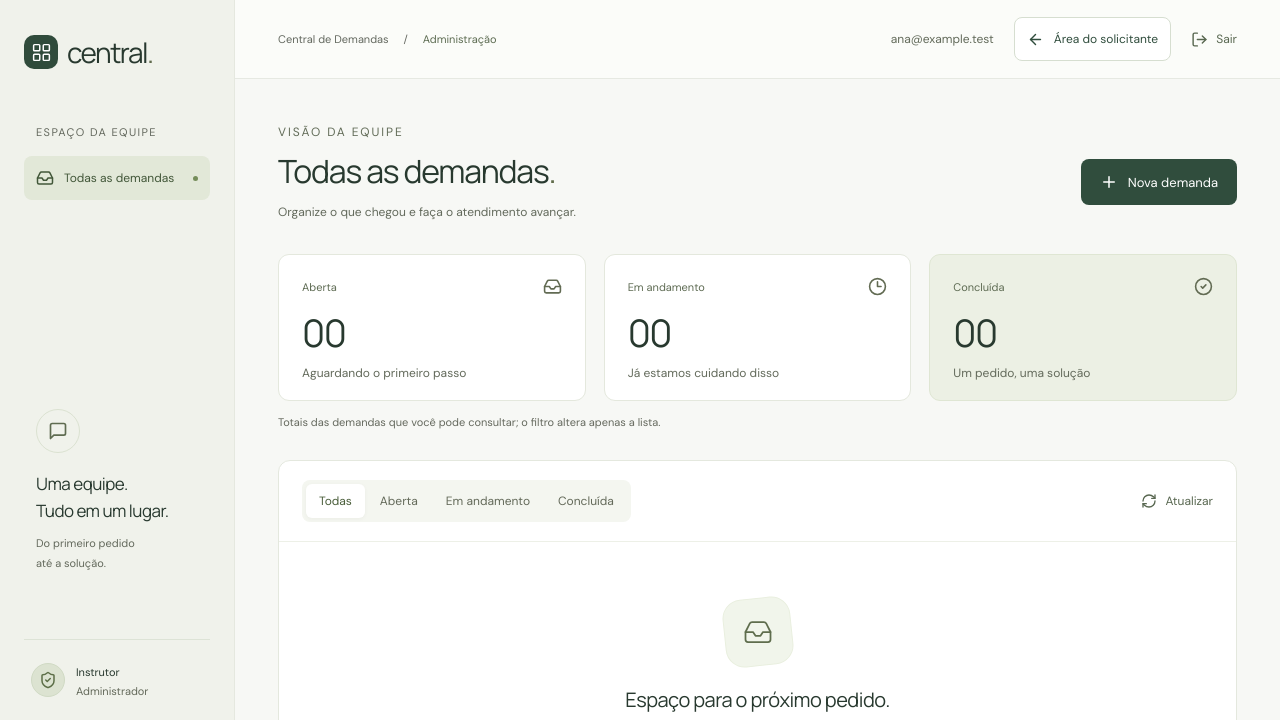
Test: administrator flow › keeps logout available and explains a failed service logout
This screenshot has width=1280, height=720.
What coordinates should you click on to do the following:
click the button with aria-label "Sair da conta administrativa"
I would click on:
 (1214, 39)
Its box is [1191, 19, 1237, 59].
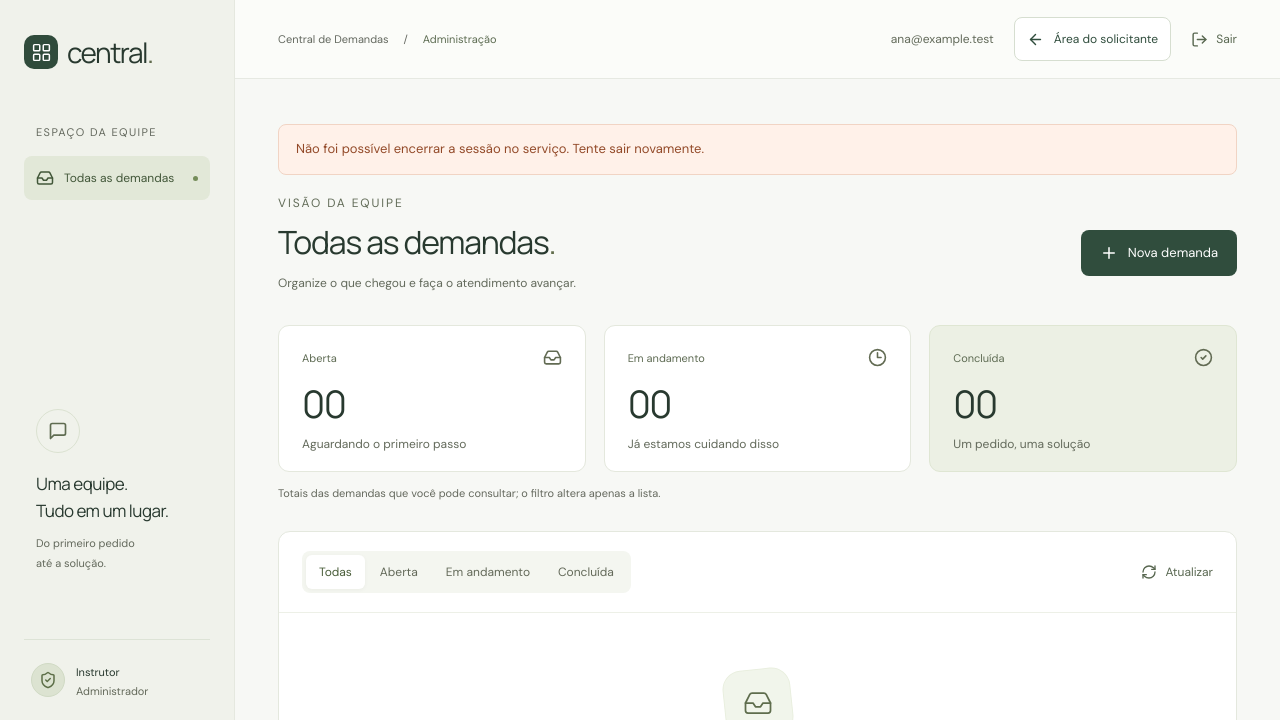
Check: the message shows "Não foi possível encerrar", box [296, 140, 704, 157]
